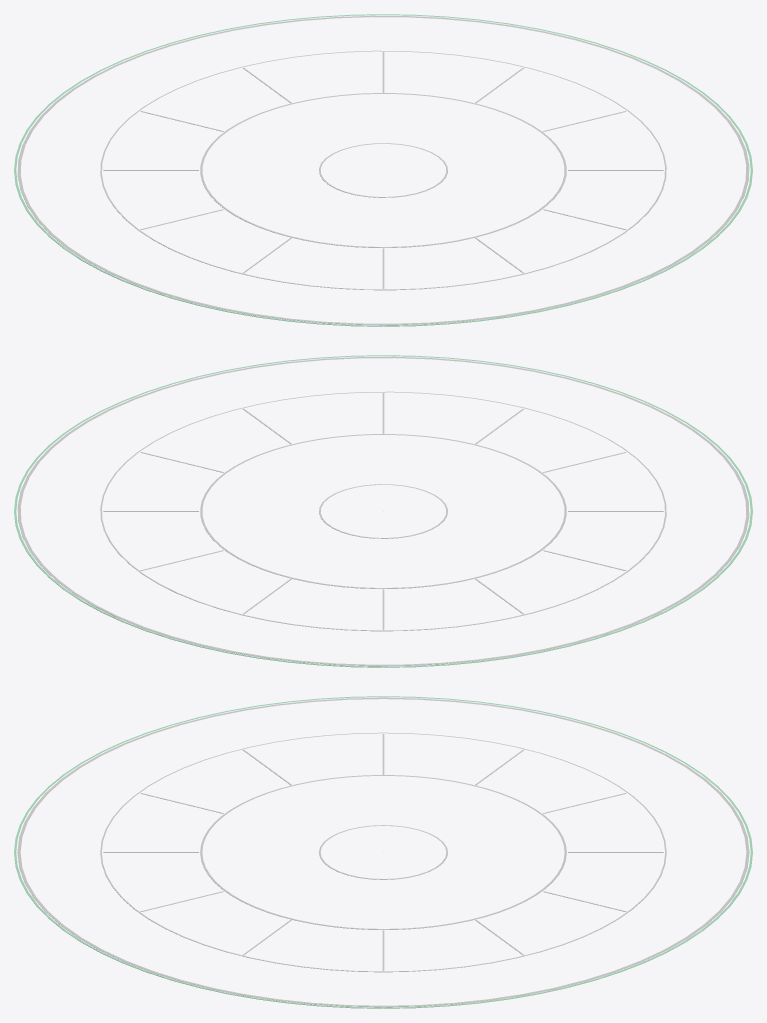
File: VerdantArena.glb
The picture shows the model from 3 angles, top to bottom: view 1: azimuth 30°, elevation 25°; view 2: azimuth 150°, elevation 25°; view 3: azimuth 270°, elevation 25°; orthographic projection.
Parts seen in each view (by area): view 1: Body, Glow; view 2: Body, Glow; view 3: Body, Glow.
Part boxes in pixels (<box>): Body: <box>17,15,749,325</box>; Glow: <box>14,14,752,326</box>; Body: <box>17,356,749,666</box>; Glow: <box>14,355,752,667</box>; Body: <box>17,697,749,1007</box>; Glow: <box>14,696,752,1008</box>.
Bounding box in the file's own units: 162 × 0.07 × 162.
